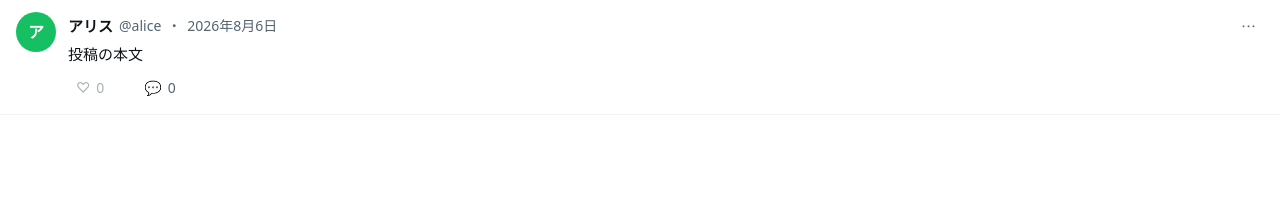
Test: PostCard › 編集中はいいね・コメントの操作列を隠す
The width and height of the screenshot is (1280, 202).
Check: the button named "いいね" is shown, box [68, 74, 112, 102]
Click the button named "投稿メニュー". click: {"x": 1248, "y": 26}
box: [1233, 12, 1264, 40]
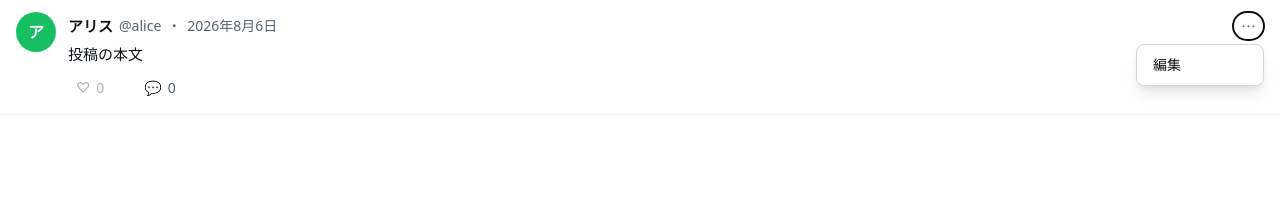
Click the button "編集". click: {"x": 1200, "y": 65}
box: [1137, 45, 1263, 85]
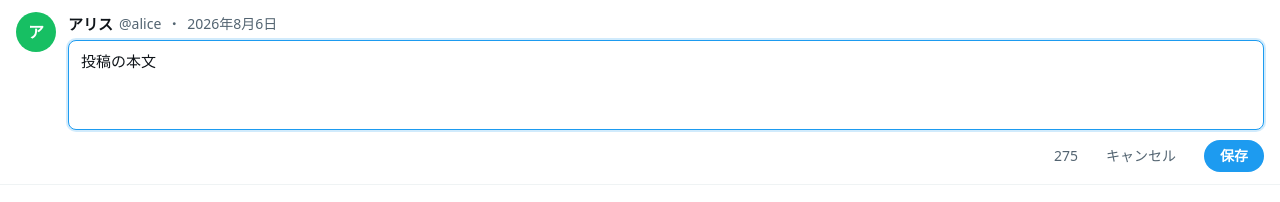
Check: the button "いいね" is gone
